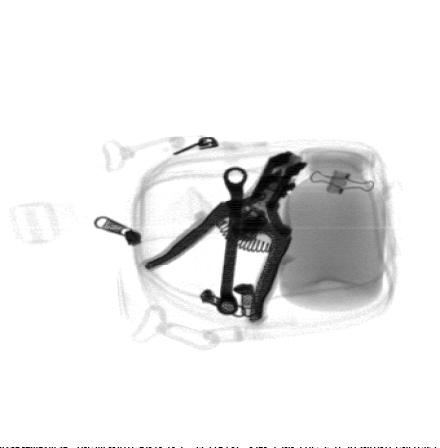Pliers: (146, 150, 311, 322)
Wrench: (217, 166, 249, 316)
